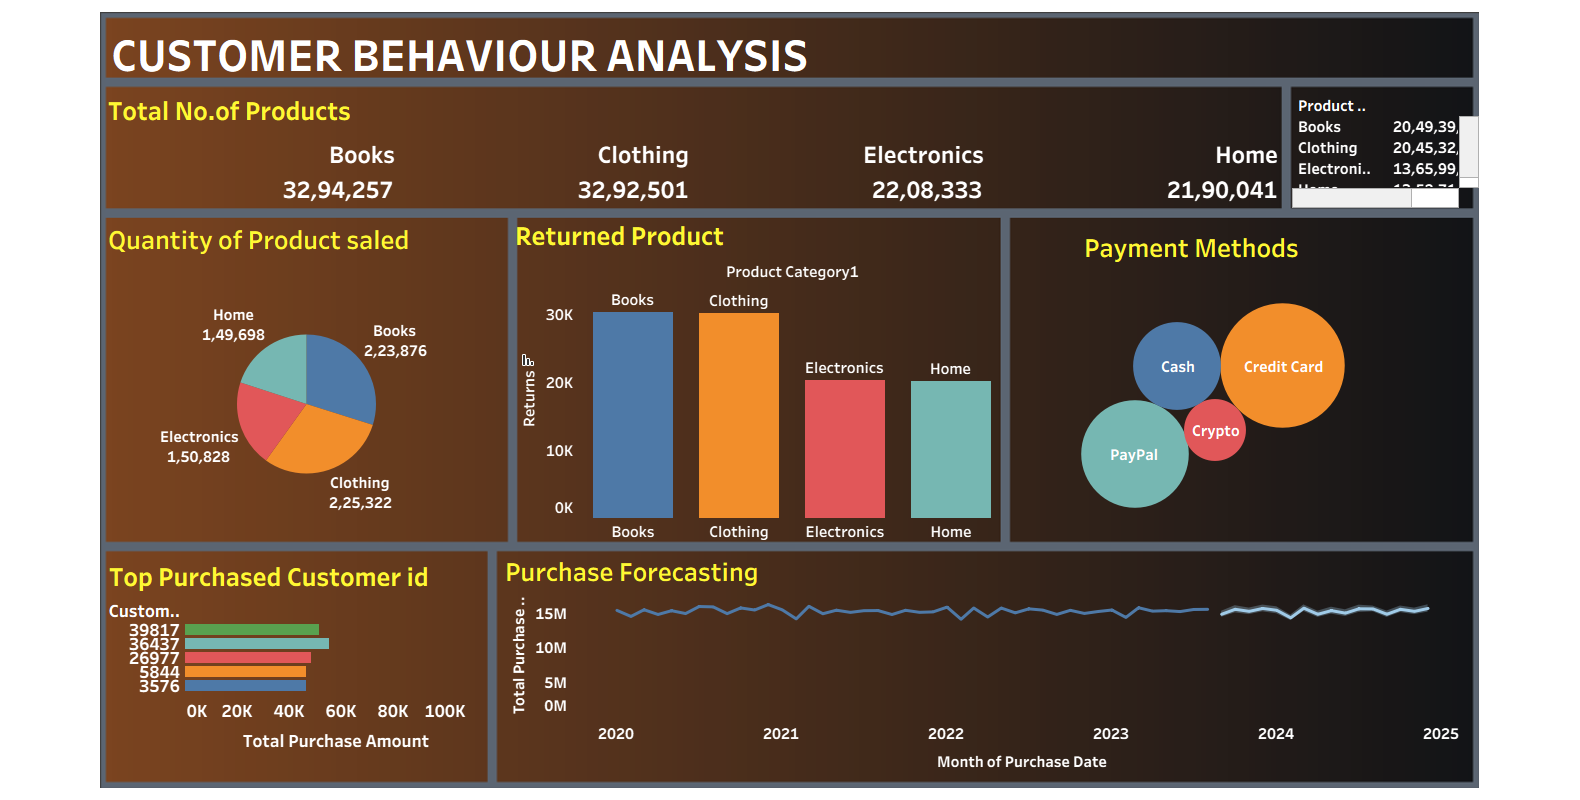

Layout of this report page (visuals, bound fields, positions):
{"tool":"tableau","page":{"name":"Dashboard 1","canvas":[1580,800],"ordinal":0},"visuals":[{"type":"image","param":"C:/Users/rajre/Downloads/HR background.pptx.png","box":[8,8,1564,784]},{"type":"text","box":[108,17,1020,73]},{"type":"worksheet","title":"Sheet 8","mark":"Automatic","rows":["Product Category"],"box":[1292,81,187,127]},{"type":"worksheet","title":"Sheet 10","mark":"Text","cols":["Product Category"],"box":[104,87,1178,121]},{"type":"worksheet","title":"Sheet 5","mark":"Automatic","rows":["Returns"],"cols":["Product Category"],"box":[511,212,493,331]},{"type":"worksheet","title":"Sheet 1","mark":"Pie","box":[104,216,405,327]},{"type":"worksheet","title":"Sheet 7","mark":"Circle","box":[1080,224,392,314]},{"type":"worksheet","title":"Sheet 3","mark":"Automatic","rows":["Total Purchase Amount"],"cols":["Purchase Date"],"box":[501,548,969,231]}]}

Visuals, with their boxes in screenshot pixels (x1, y1, x2, y2), scaled from the page's 1580x800 canvas onto the 1580x800 screenshot:
image: bbox(8, 8, 1572, 792)
text: bbox(108, 17, 1128, 90)
"Sheet 8" worksheet: bbox(1292, 81, 1479, 208)
"Sheet 10" worksheet (Text marks): bbox(104, 87, 1282, 208)
"Sheet 5" worksheet: bbox(511, 212, 1004, 543)
"Sheet 1" worksheet (Pie marks): bbox(104, 216, 509, 543)
"Sheet 7" worksheet (Circle marks): bbox(1080, 224, 1472, 538)
"Sheet 3" worksheet: bbox(501, 548, 1470, 779)
